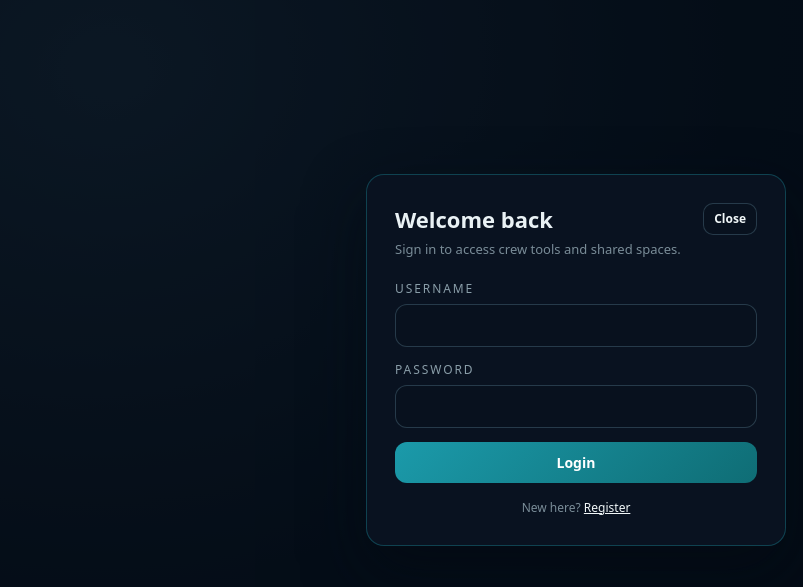
AccessModal › shows login error on failed sign-in
Type "captain" into the field labelled "Username" at (576, 325), box [395,304,757,347]
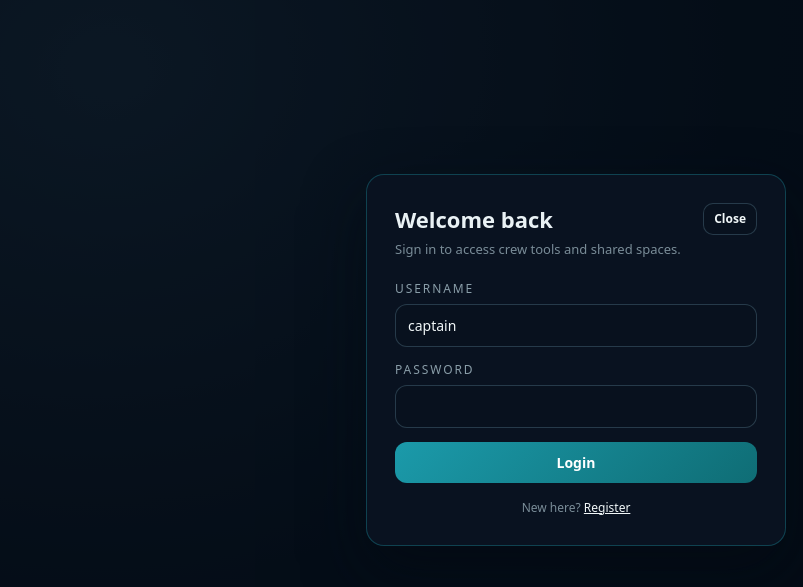
Type "bad" into the password field labelled "Password" at (576, 406), box [395,385,757,428]
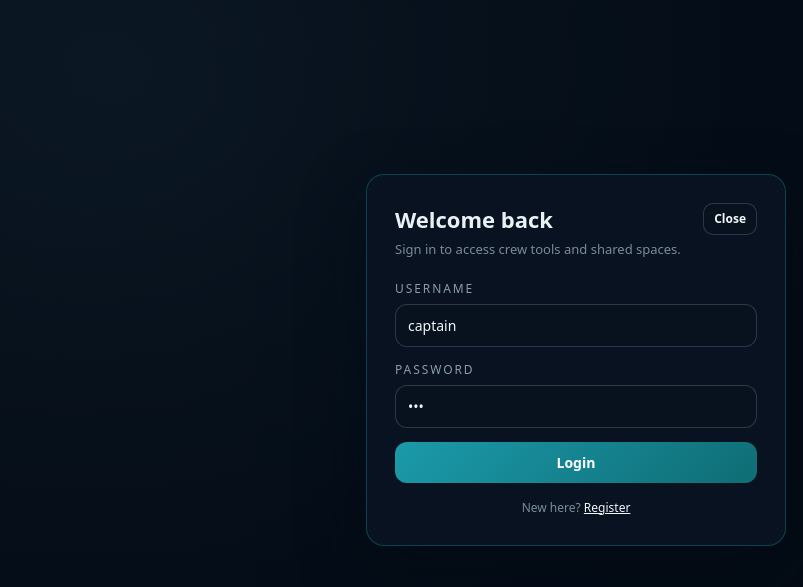
Click the button "Login" at (576, 462), box [395,442,757,483]
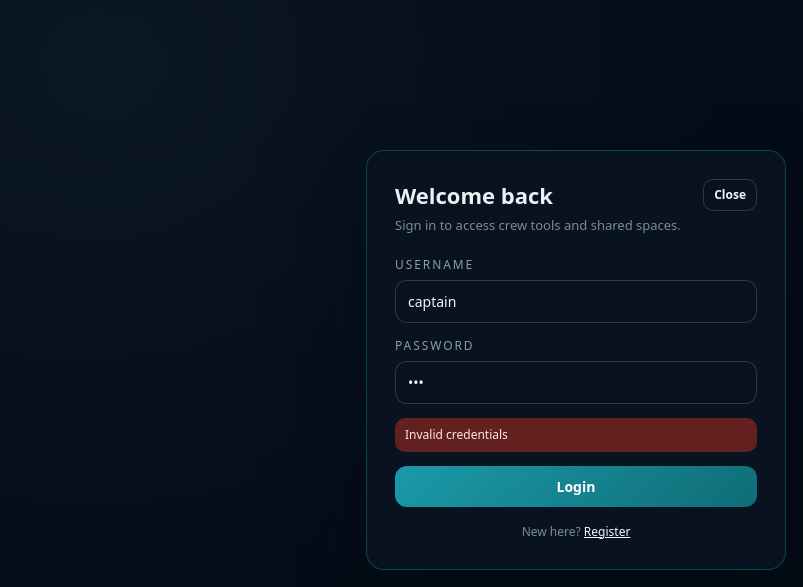
Expected: the text "Invalid credentials" is shown, [395,418,757,452]
